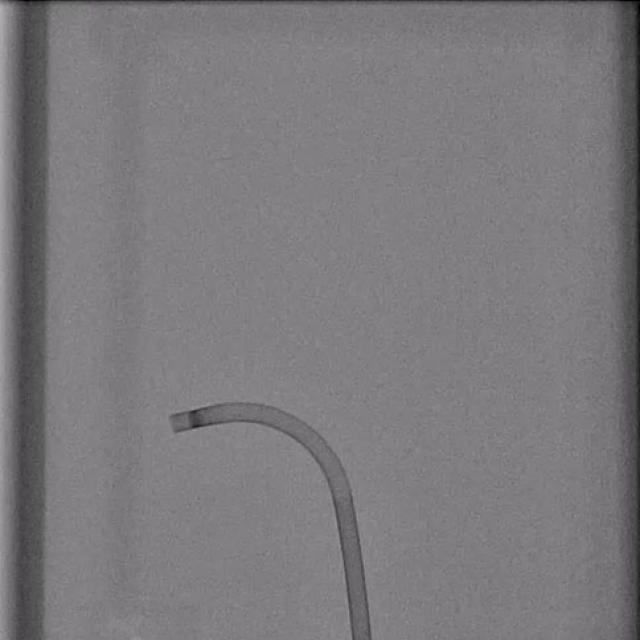bend: (333, 492, 353, 502)
entry: (351, 634, 370, 640)
marker: (188, 409, 202, 428)
tip: (168, 413, 180, 432)
